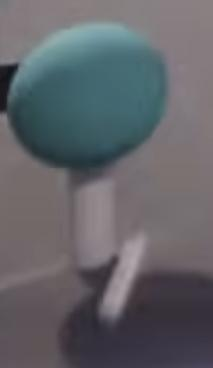algae: (6, 21, 169, 170)
coral: (68, 169, 115, 270)
